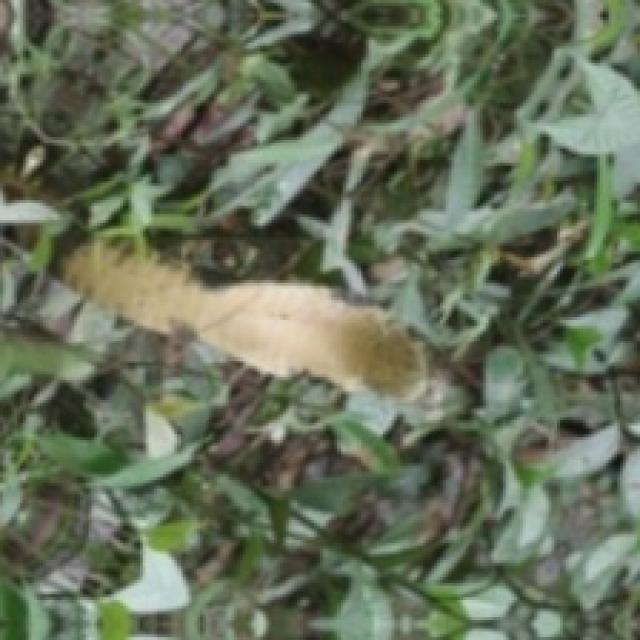king cobra: (66, 240, 426, 394)
